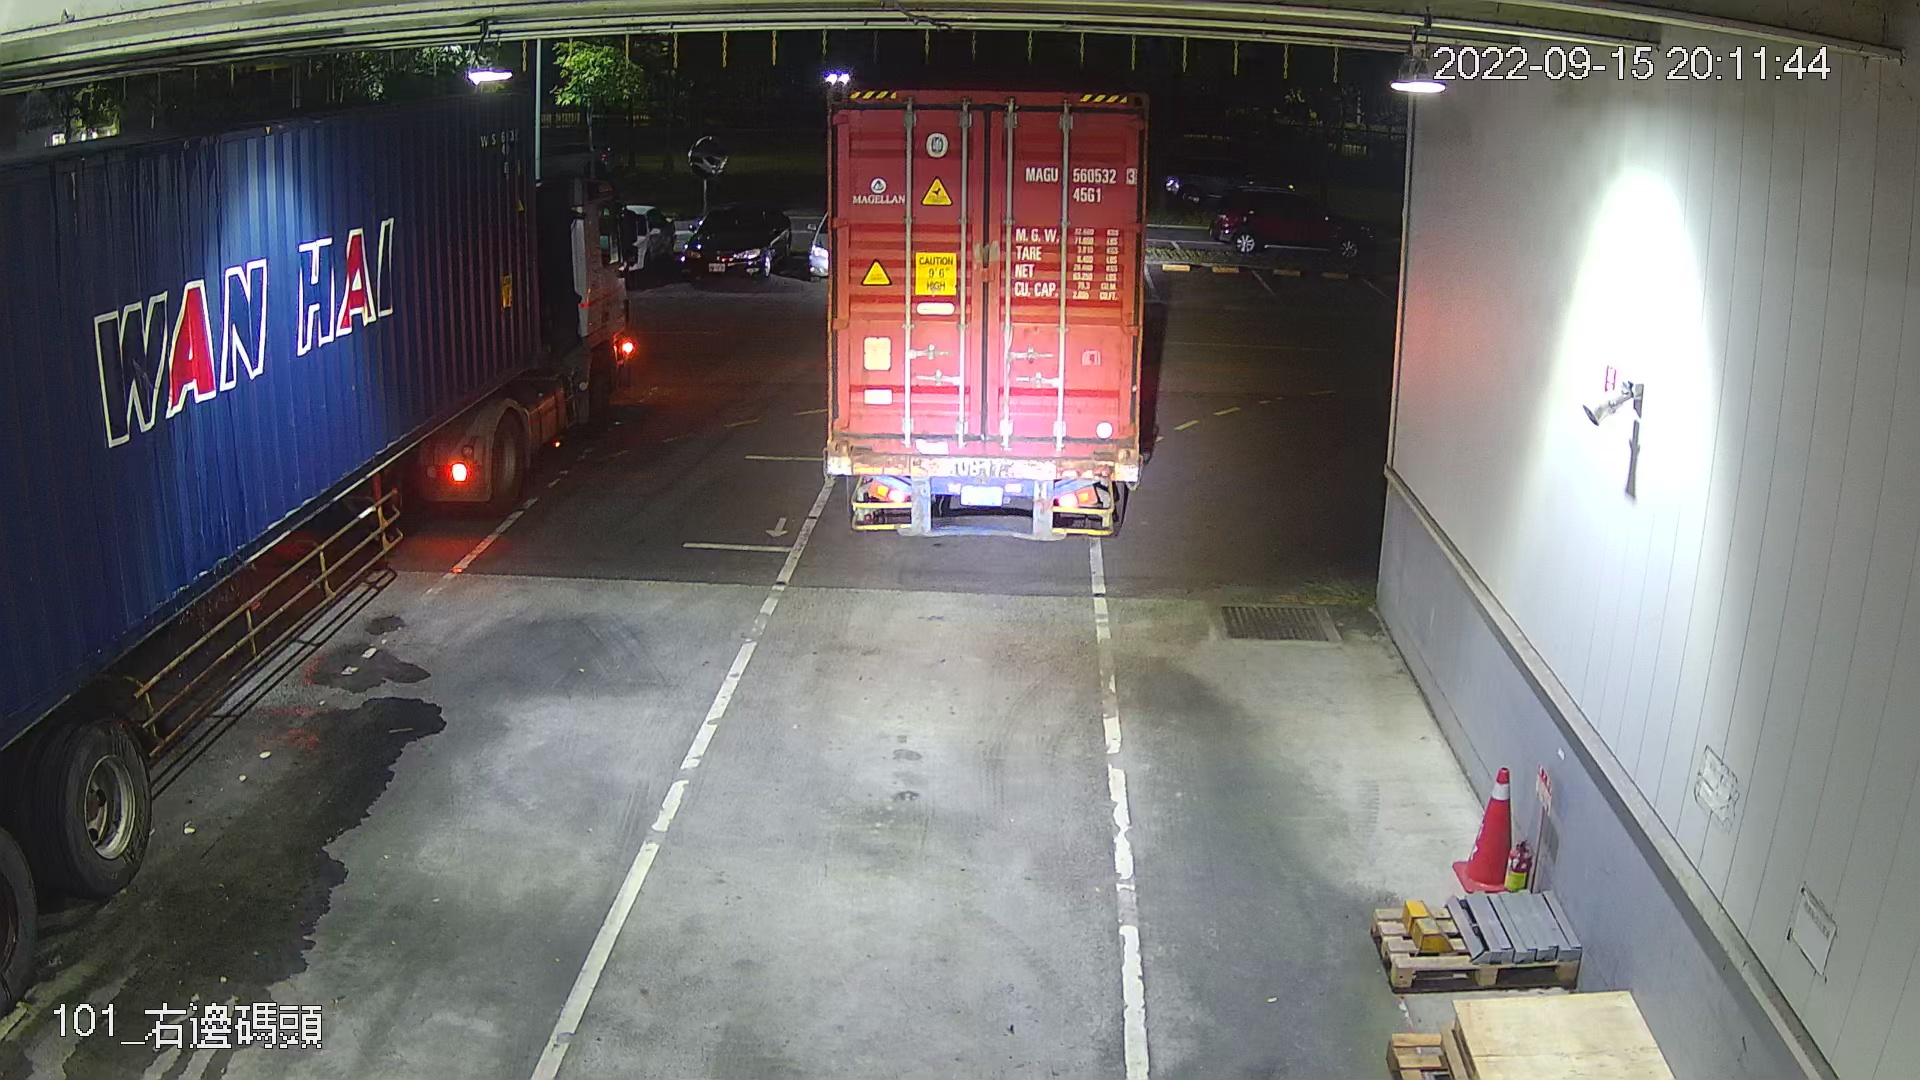container: (1017, 156, 1141, 208)
